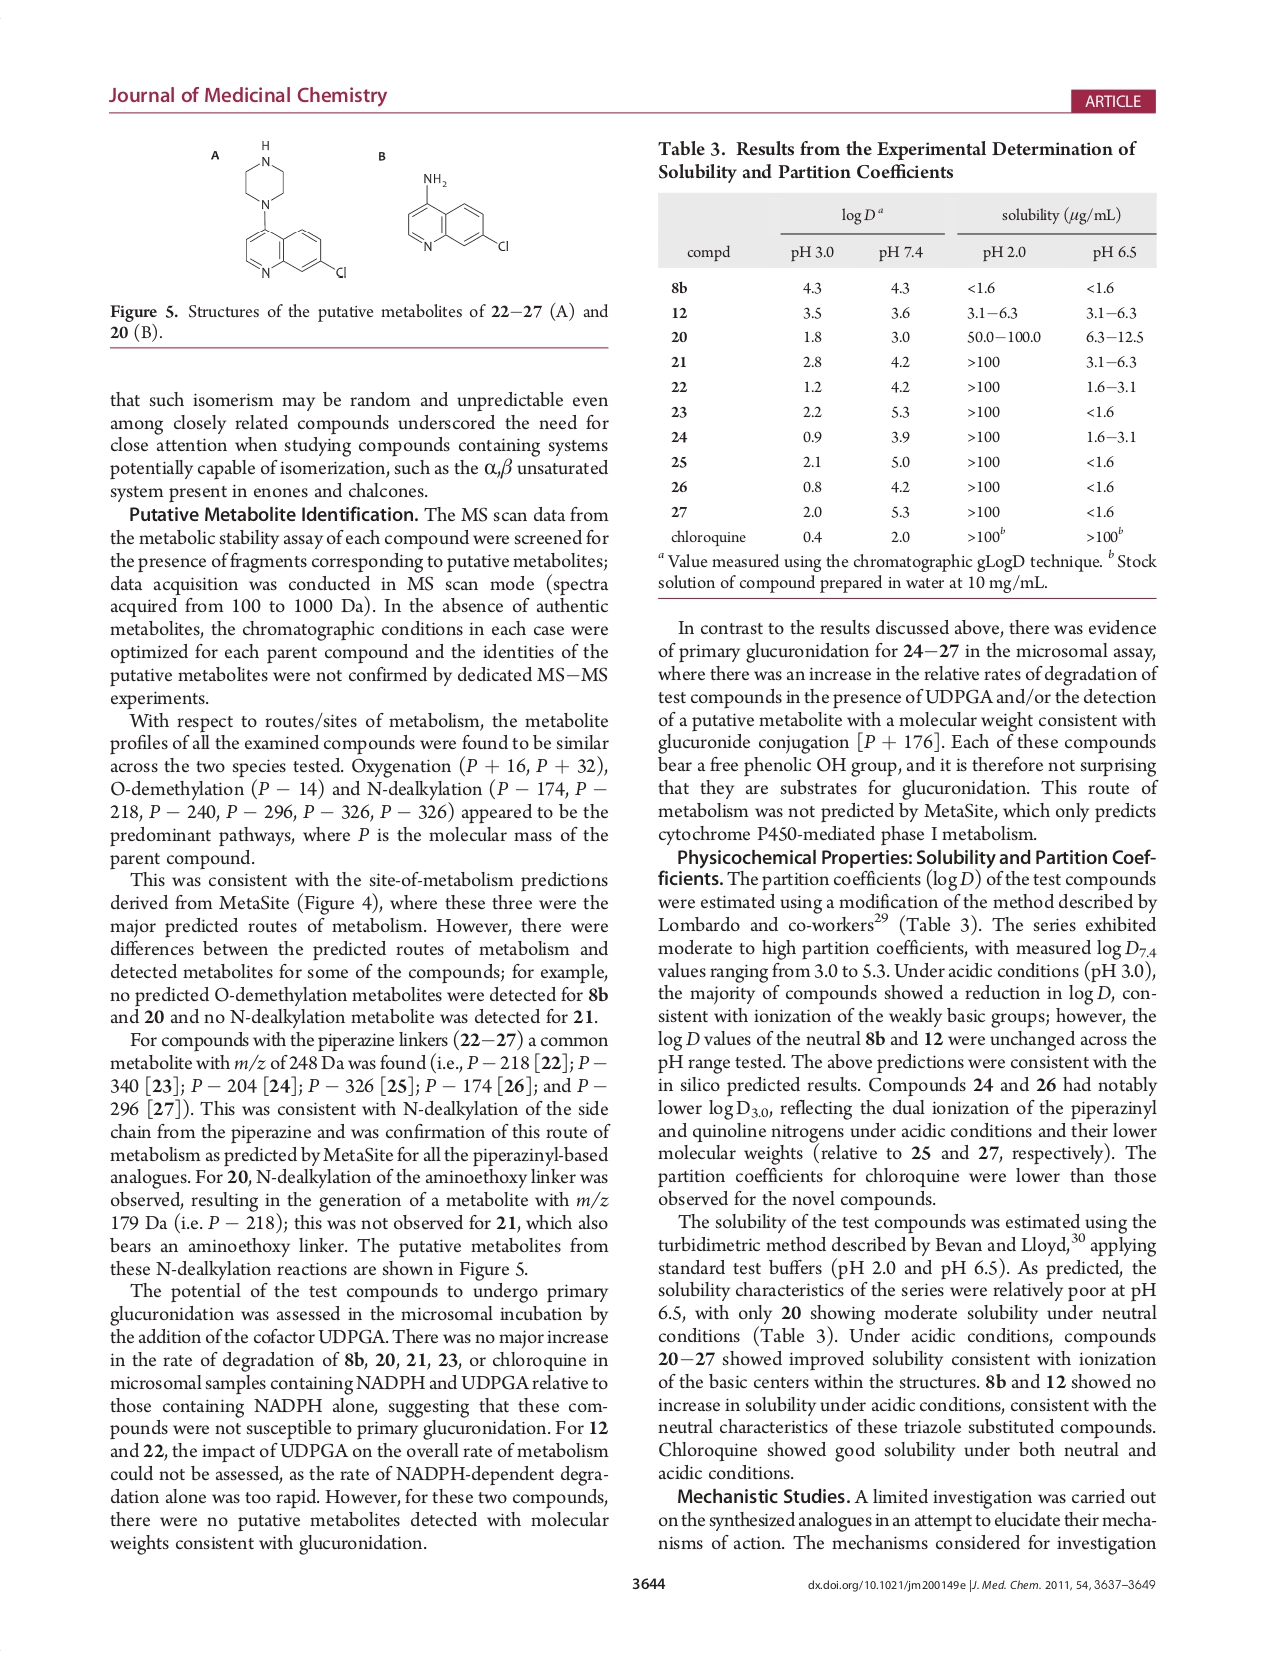exist_molecular: (239, 125, 348, 285), (402, 166, 515, 258)
